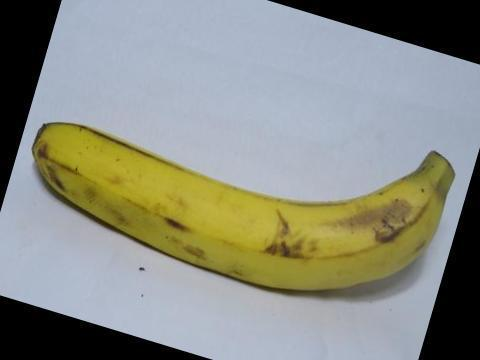ripe: (22, 109, 457, 288)
